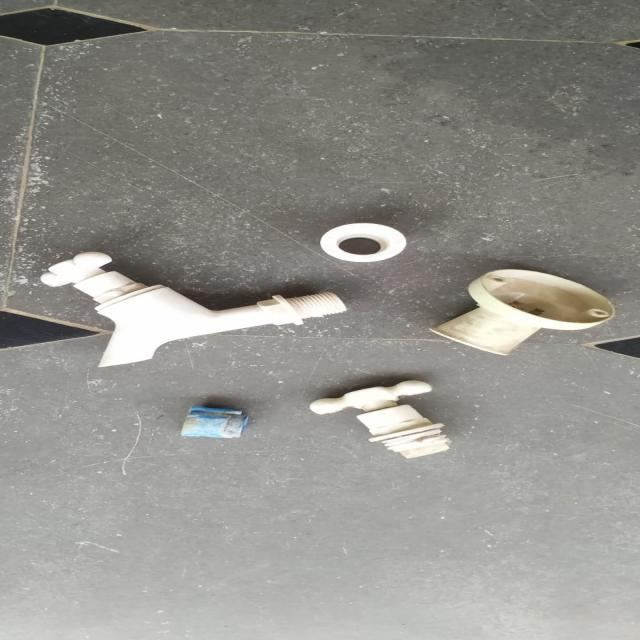dry: (20, 254, 328, 366), (388, 266, 626, 360), (286, 376, 498, 460), (146, 402, 280, 448), (292, 224, 429, 265)
